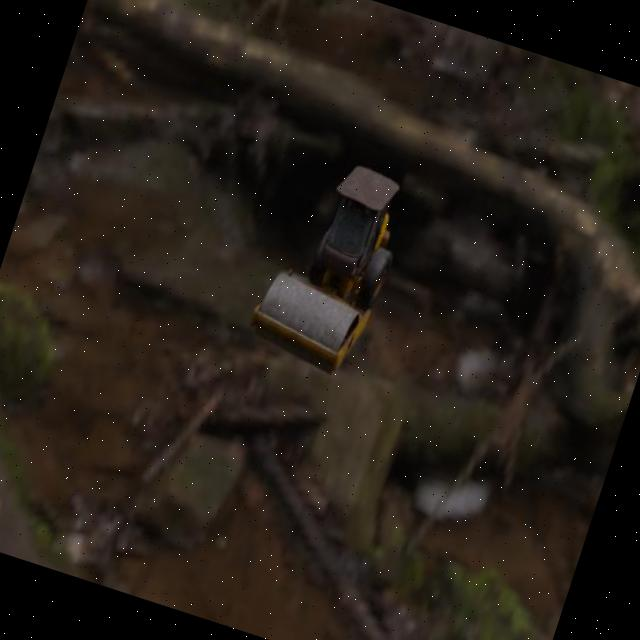Roller: (242, 148, 418, 382)
